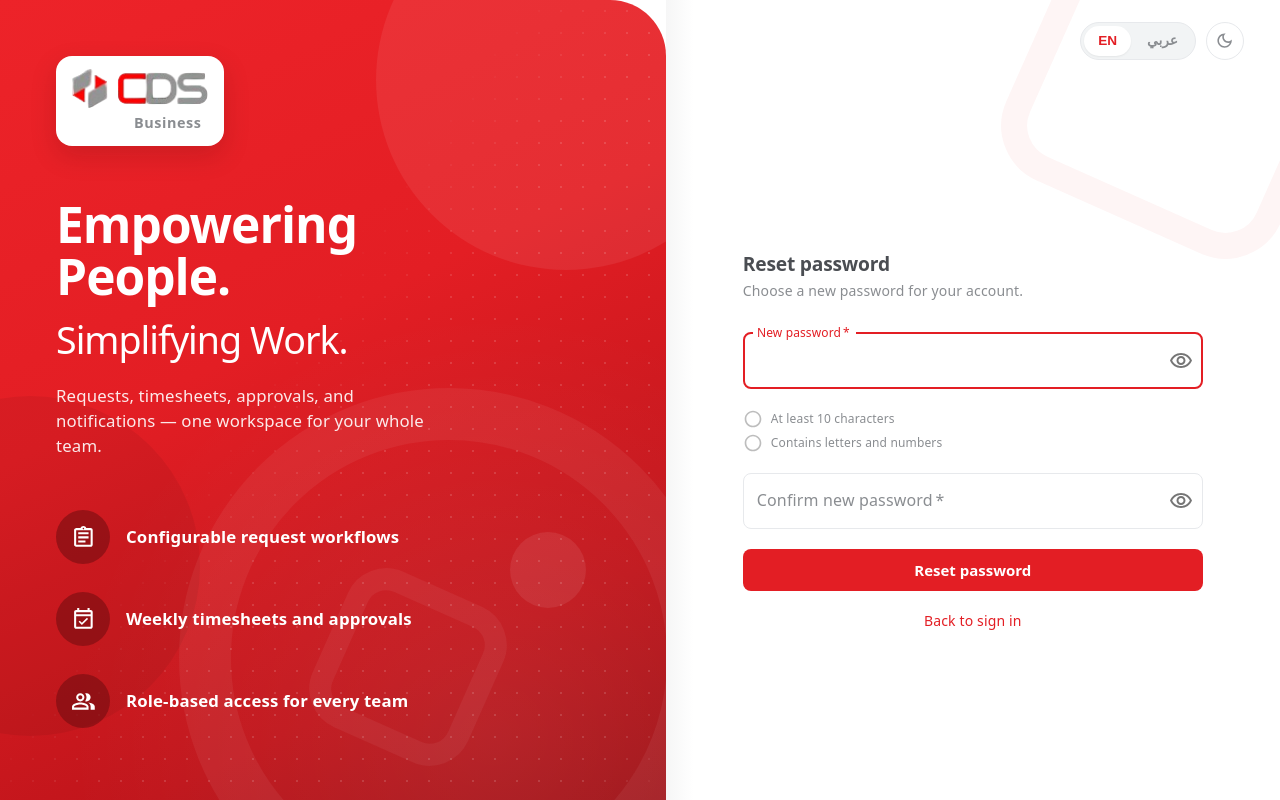
Test: reset password › rejects a password shorter than 10 characters
expect the button "Reset password" is shown: met, box [743,549,1203,591]
In the password field labelled "New password *": (948, 361) [743,333,1153,389], type "short"
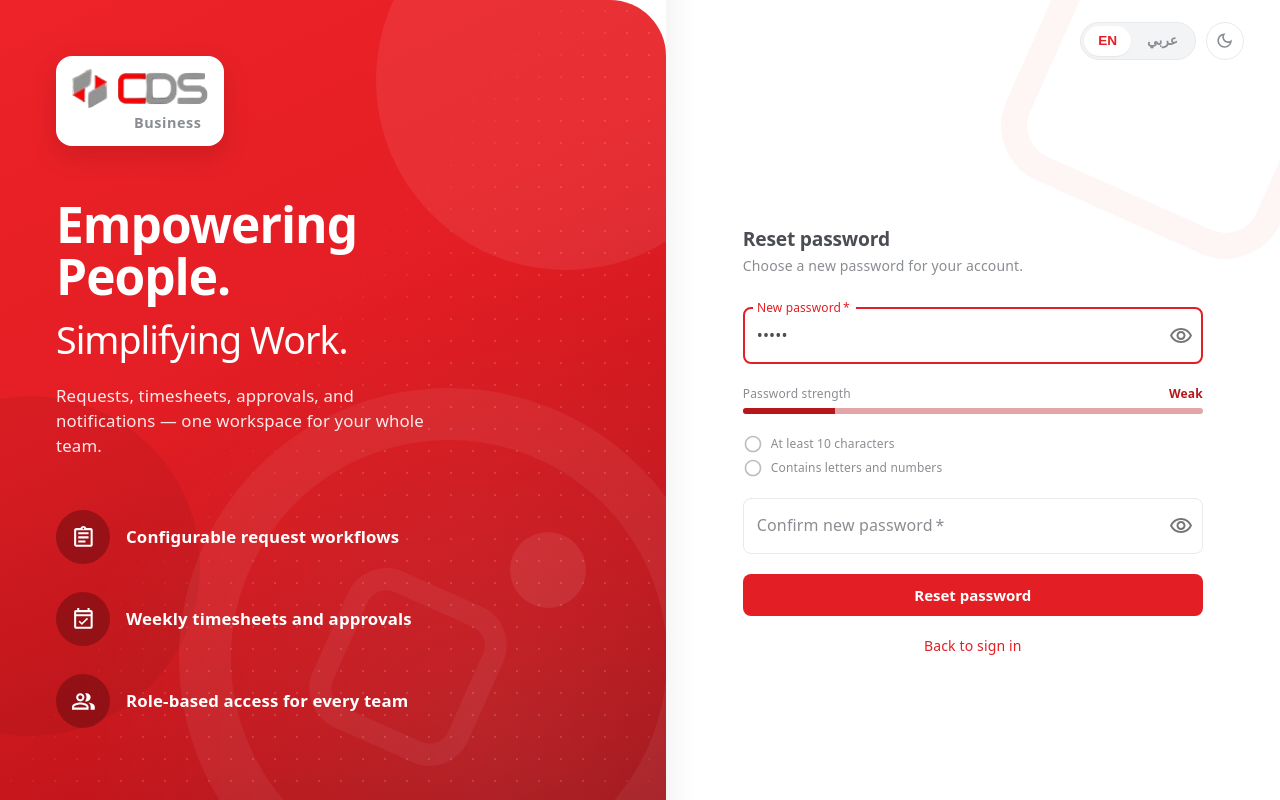
In the password field labelled "Confirm new password *": (948, 526) [743,498,1153,554], type "short"
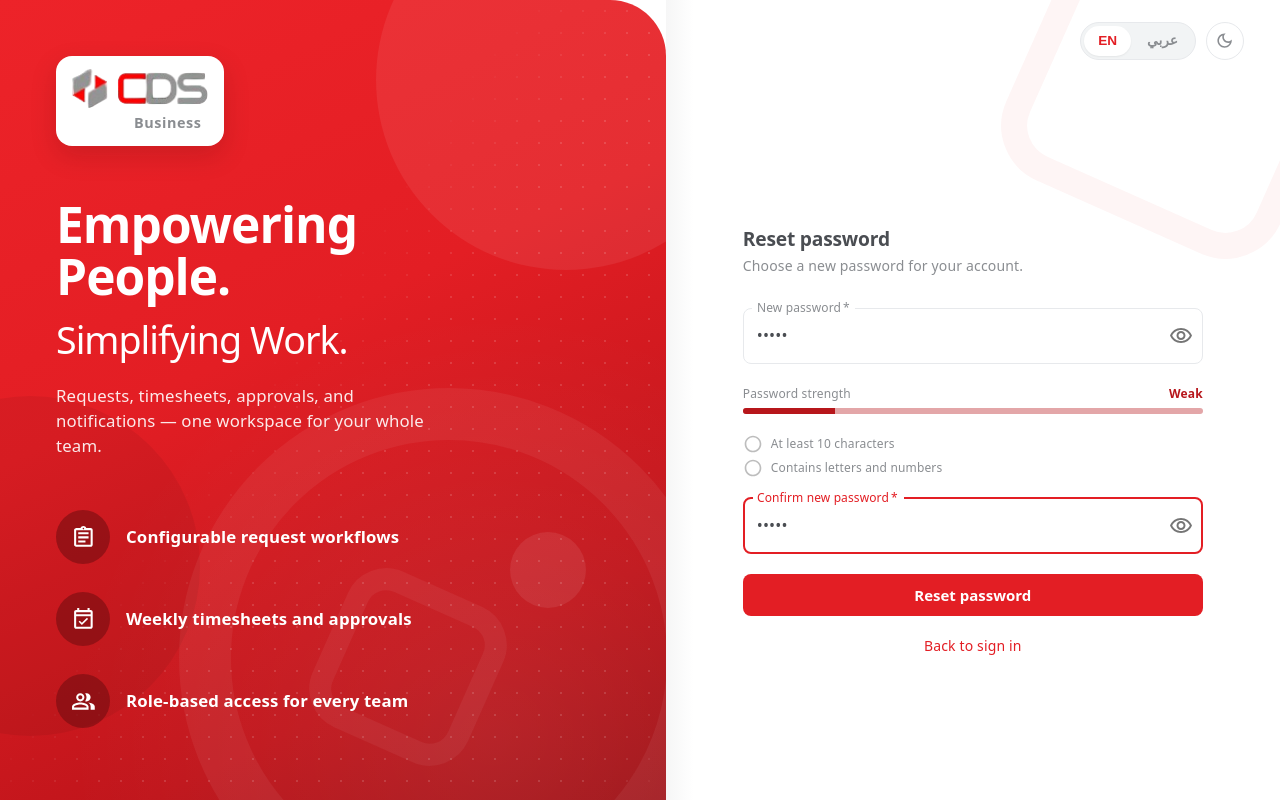
Click the button "Reset password": click(973, 595) [743,574,1203,616]
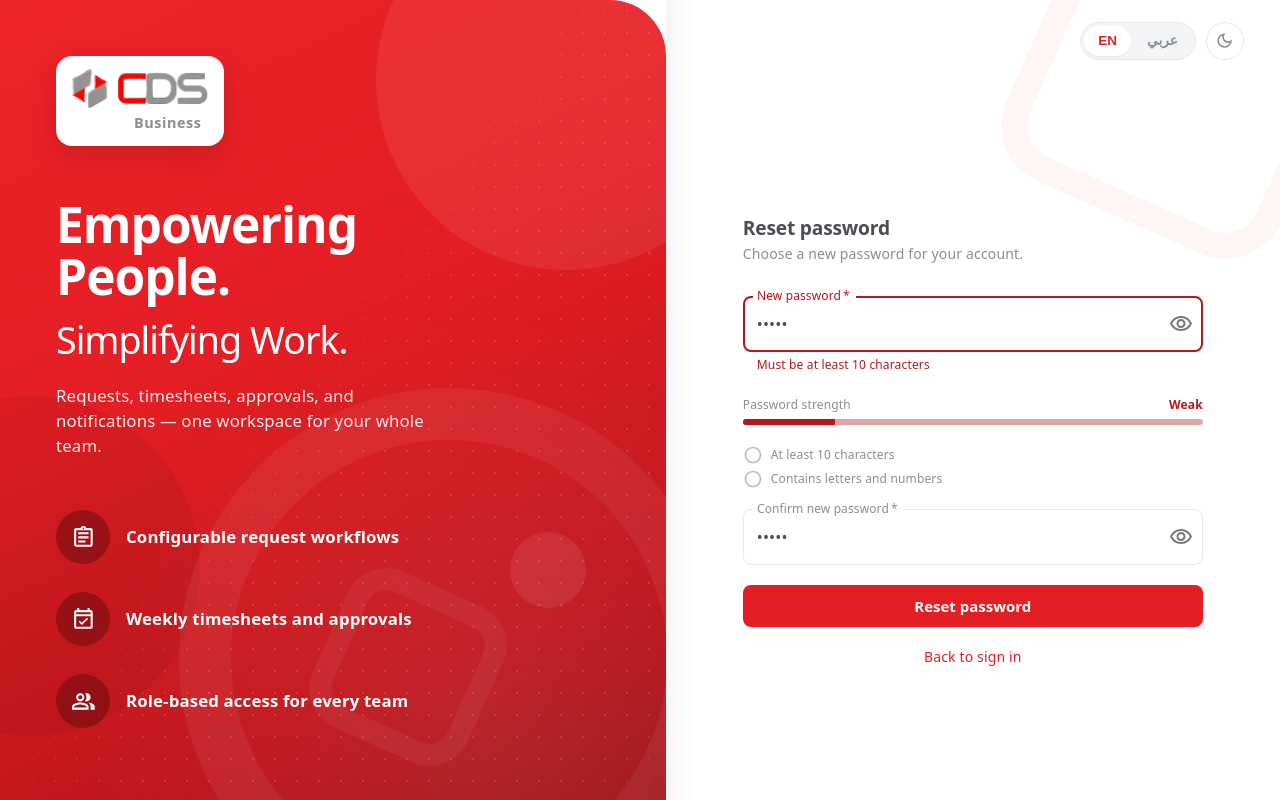
expect the text "Must be at least 10 characters" is shown: met, box [757,356,930,373]
